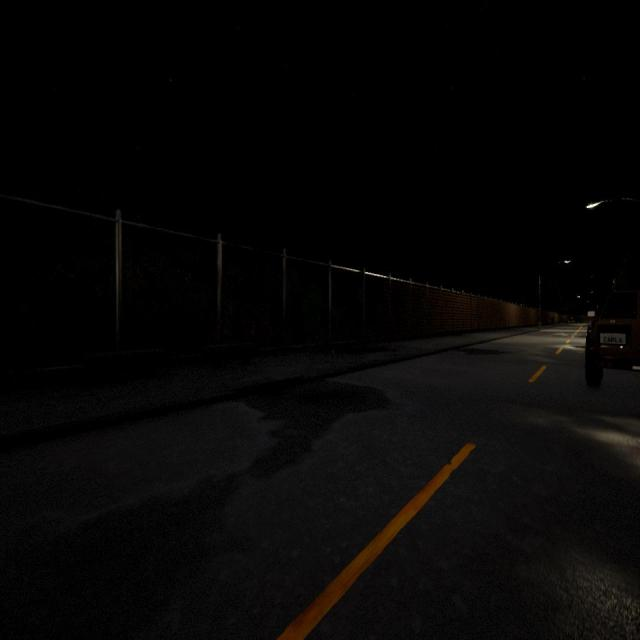Vehicle: (585, 290, 639, 386)
